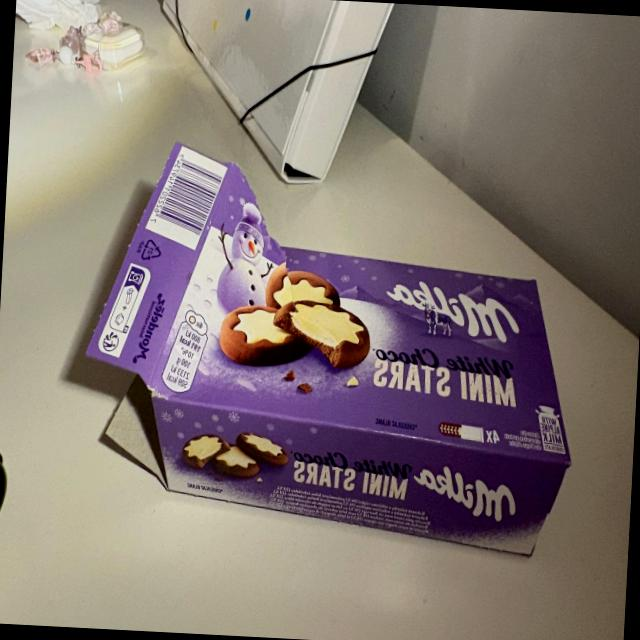damaged_package: (79, 138, 586, 561)
